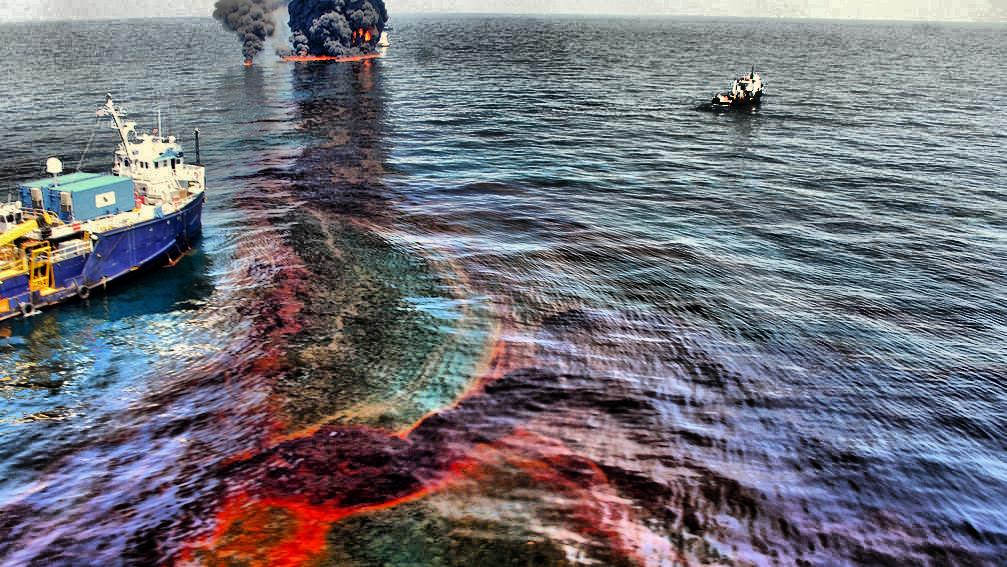truecolor: (0, 71, 869, 566)
